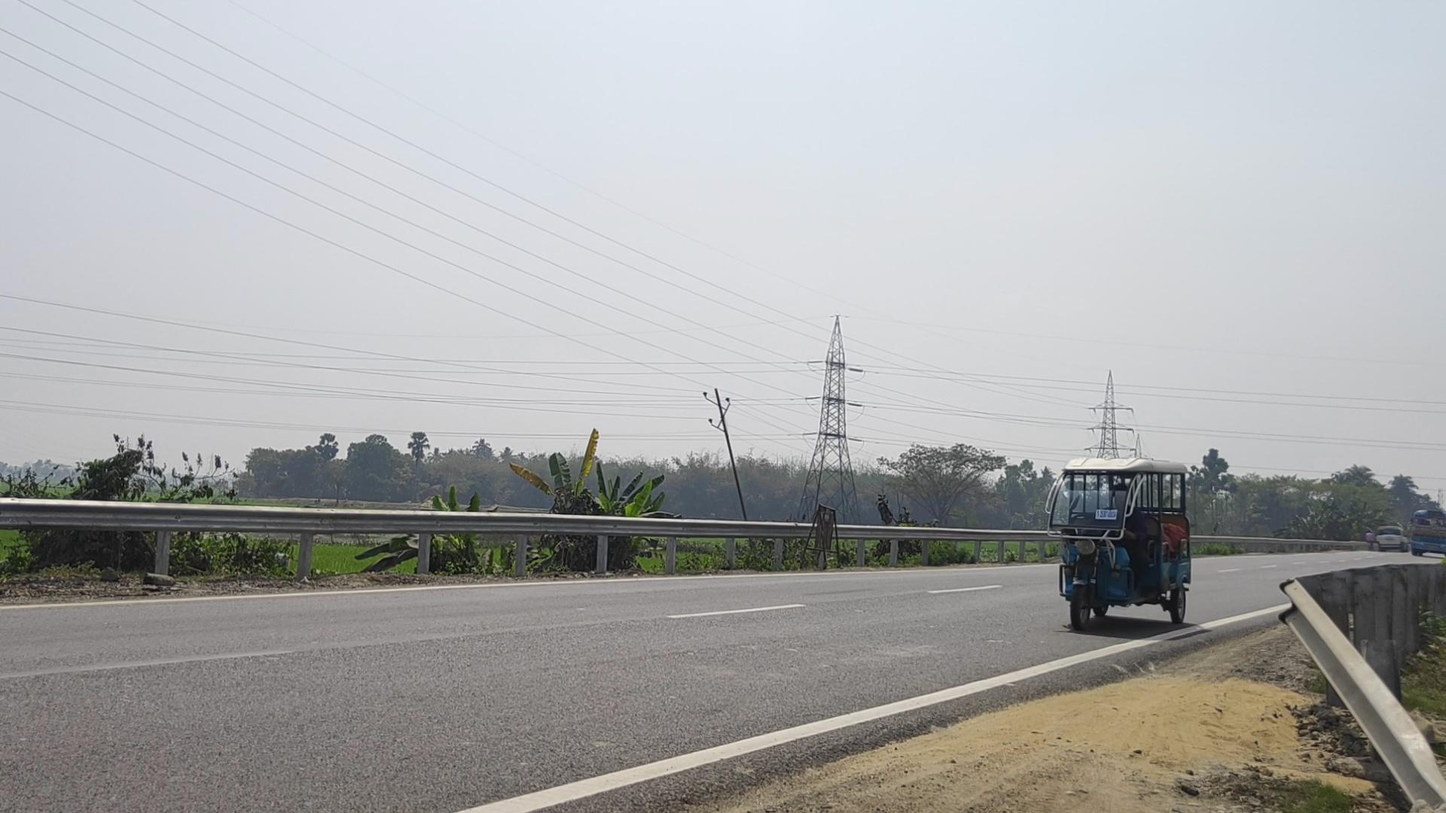Auto: (1046, 458, 1192, 632)
Bus: (1410, 509, 1446, 559)
car: (1376, 525, 1410, 553)
